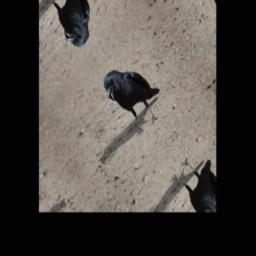Crow: (98, 49, 171, 140)
